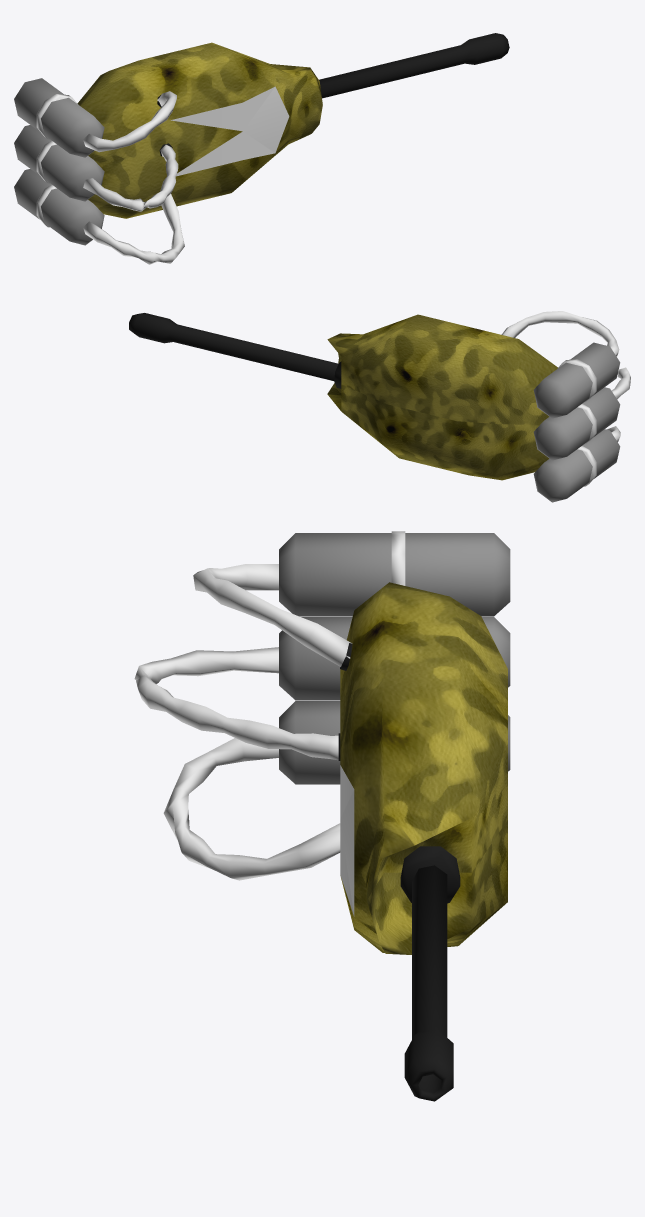
File: Flamethrower_dead.fbx
3 renders of one model, top to bottom at view 1: azimuth 30°, elevation 25°; view 2: azimuth 150°, elevation 25°; view 3: azimuth 270°, elevation 25°, orthographic. The views are drawn at different scales.
Visible parts, largest first — view 1: Body0, Color1, Hose03_None.001, Hose03_None.002; view 2: Body0, Hose03_None.001, Hose03_None.002, Color1; view 3: Body0, Hose03_None.001, Color1, Hose03_None.002.
Part boxes in pixels (x1=…): Body0: x1=77, y1=42, x2=322, y2=218; Color1: x1=36, y1=86, x2=289, y2=264; Hose03_None.001: x1=14, y1=78, x2=104, y2=245; Hose03_None.002: x1=157, y1=33, x2=509, y2=193; Body0: x1=327, y1=314, x2=557, y2=480; Hose03_None.001: x1=533, y1=342, x2=620, y2=502; Hose03_None.002: x1=129, y1=313, x2=341, y2=388; Color1: x1=501, y1=311, x2=630, y2=486; Body0: x1=340, y1=582, x2=507, y2=954; Hose03_None.001: x1=279, y1=533, x2=510, y2=784; Color1: x1=134, y1=531, x2=405, y2=916; Hose03_None.002: x1=338, y1=643, x2=460, y2=1101.
Size of the model in its own units: 113 by 26.65 by 32.19.
3 materials, 3 textured.
